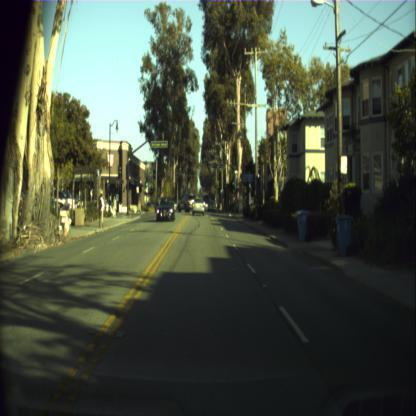Green: (202, 150, 206, 161), (232, 174, 235, 186), (146, 177, 148, 187)
